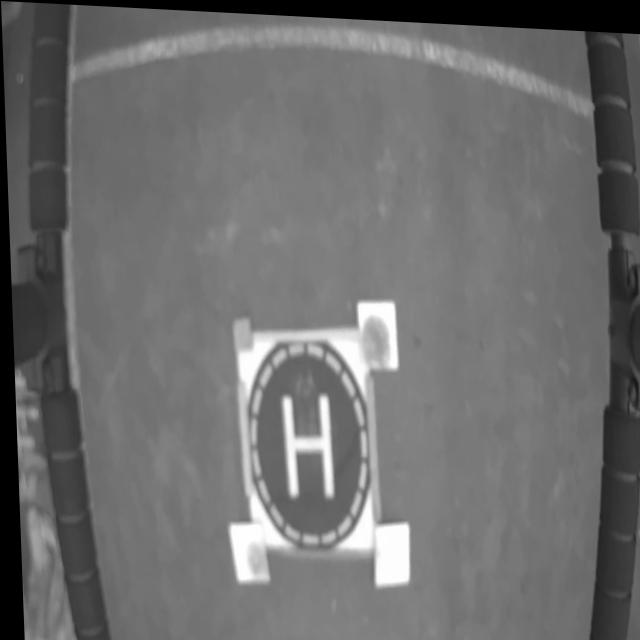Helipad: (276, 387, 329, 498)
